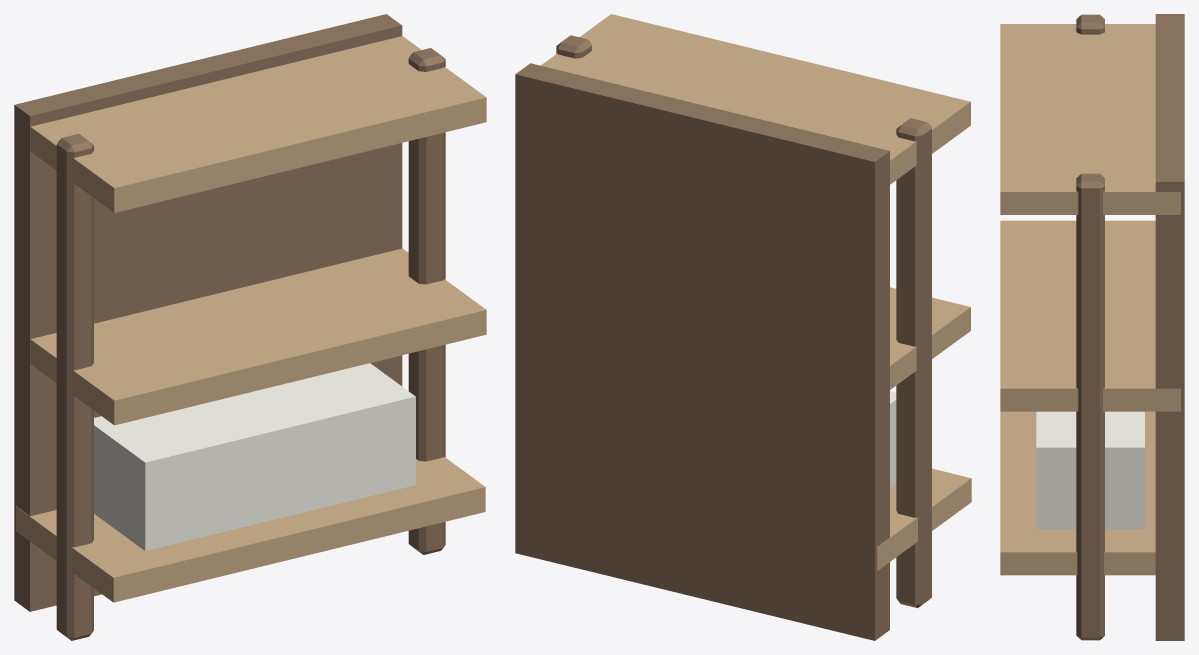
Rendered from feudal-japan-castle-town-scroll-cabinet-d5267eb1__26459.glb.
The picture shows the model from 3 angles, left to right: view 1: azimuth 30°, elevation 25°; view 2: azimuth 150°, elevation 25°; view 3: azimuth 270°, elevation 25°; orthographic projection. The views are drawn at different scales.
Parts seen in each view (by area): view 1: scroll-cabinet; view 2: scroll-cabinet; view 3: scroll-cabinet.
Part boxes in pixels (box(x1,y1,x2,y2)): scroll-cabinet: box(14, 14, 486, 640); scroll-cabinet: box(515, 14, 971, 640); scroll-cabinet: box(1000, 14, 1184, 640).
Size of the model in its own units: 1.12 by 1.4 by 0.5099.
